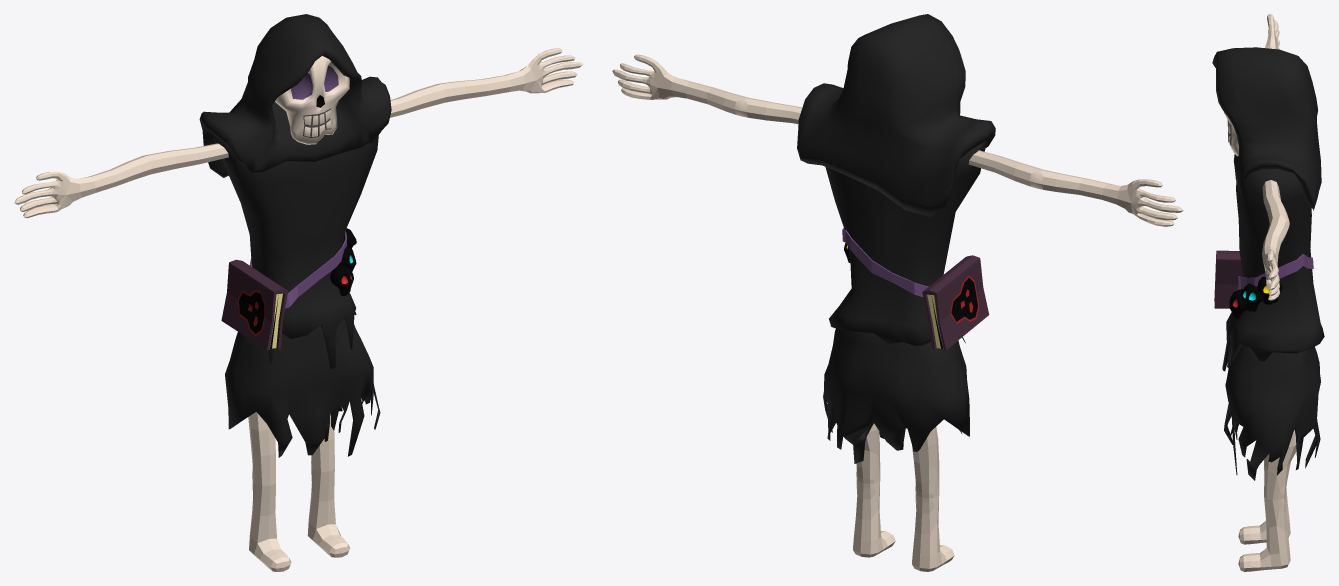
Rendered from Necro.fbx.
The picture shows the model from 3 angles, left to right: view 1: azimuth 30°, elevation 25°; view 2: azimuth 150°, elevation 25°; view 3: azimuth 270°, elevation 25°; orthographic projection. The views are drawn at different scales.
Parts seen in each view (by area): view 1: Necro; view 2: Necro; view 3: Necro.
Boxes of the visible parts, x1,y1,x2,y2 form: Necro: [14, 14, 583, 571]; Necro: [612, 14, 1183, 571]; Necro: [1212, 14, 1324, 571].
Size of the model in its own units: 3.02 by 2.7 by 0.5392.
1 material, 1 textured.
